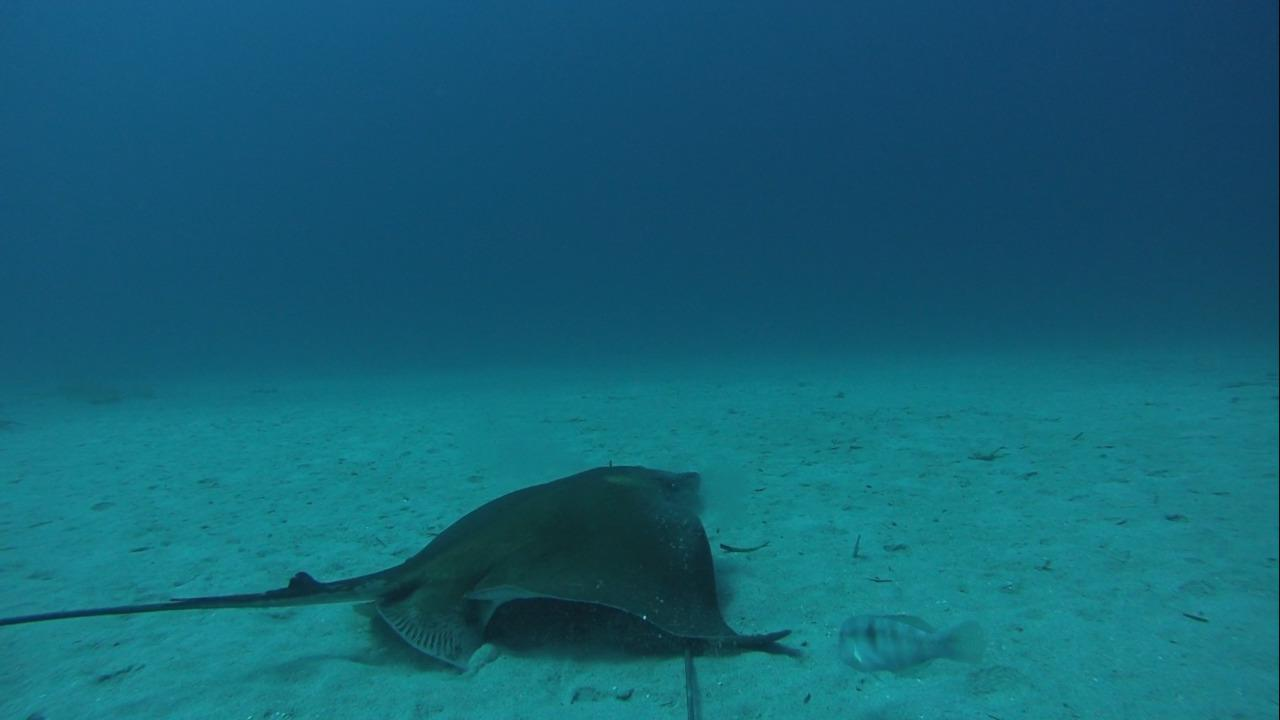myliobatis: (4, 458, 804, 677)
raor: (825, 602, 987, 680)
